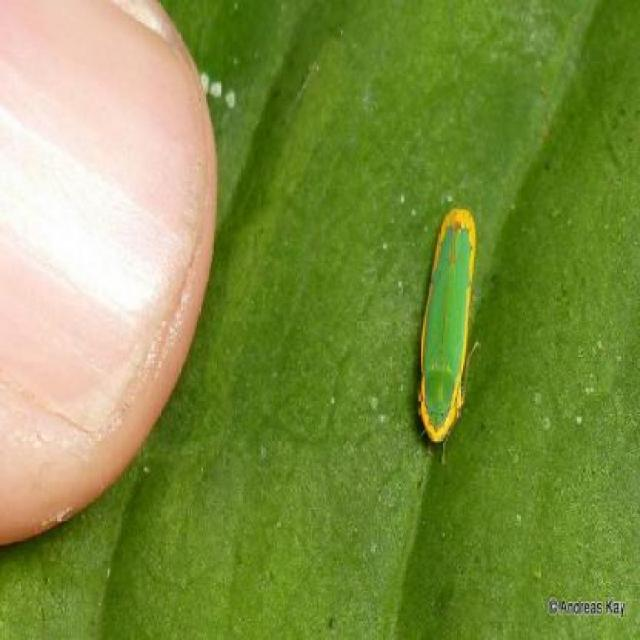green-leafhopper: (407, 196, 490, 441)
